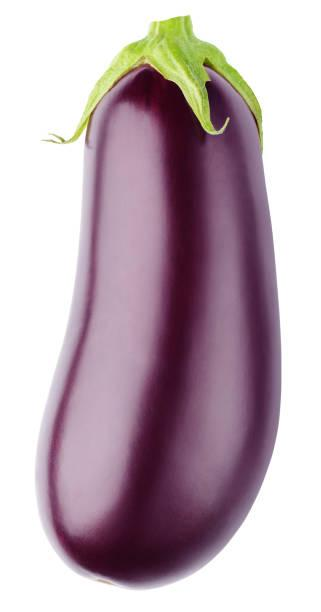Brinjal: (39, 17, 284, 590)
